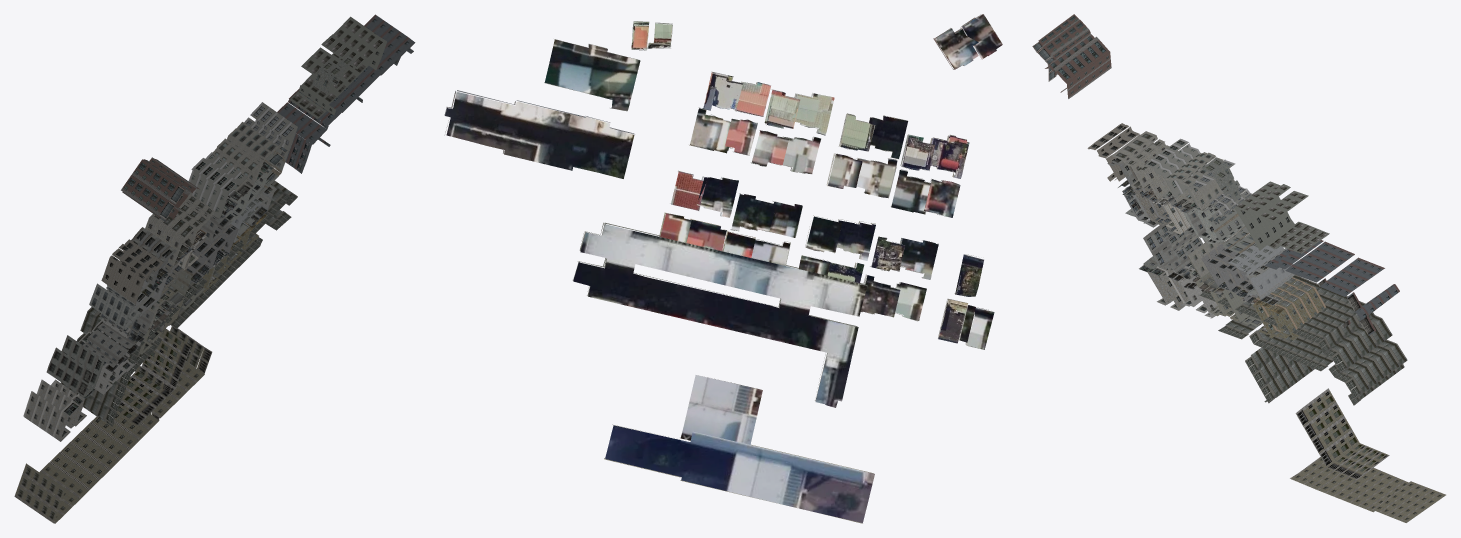
File: tile_LOD4_r7_c14.glb
The picture shows the model from 3 angles, left to right: view 1: azimuth 30°, elevation 25°; view 2: azimuth 150°, elevation 25°; view 3: azimuth 270°, elevation 25°; orthographic projection. The views are drawn at different scales.
Size of the model in its own units: 185 by 168 by 138.
Materials: 184 (184 with a texture image).
